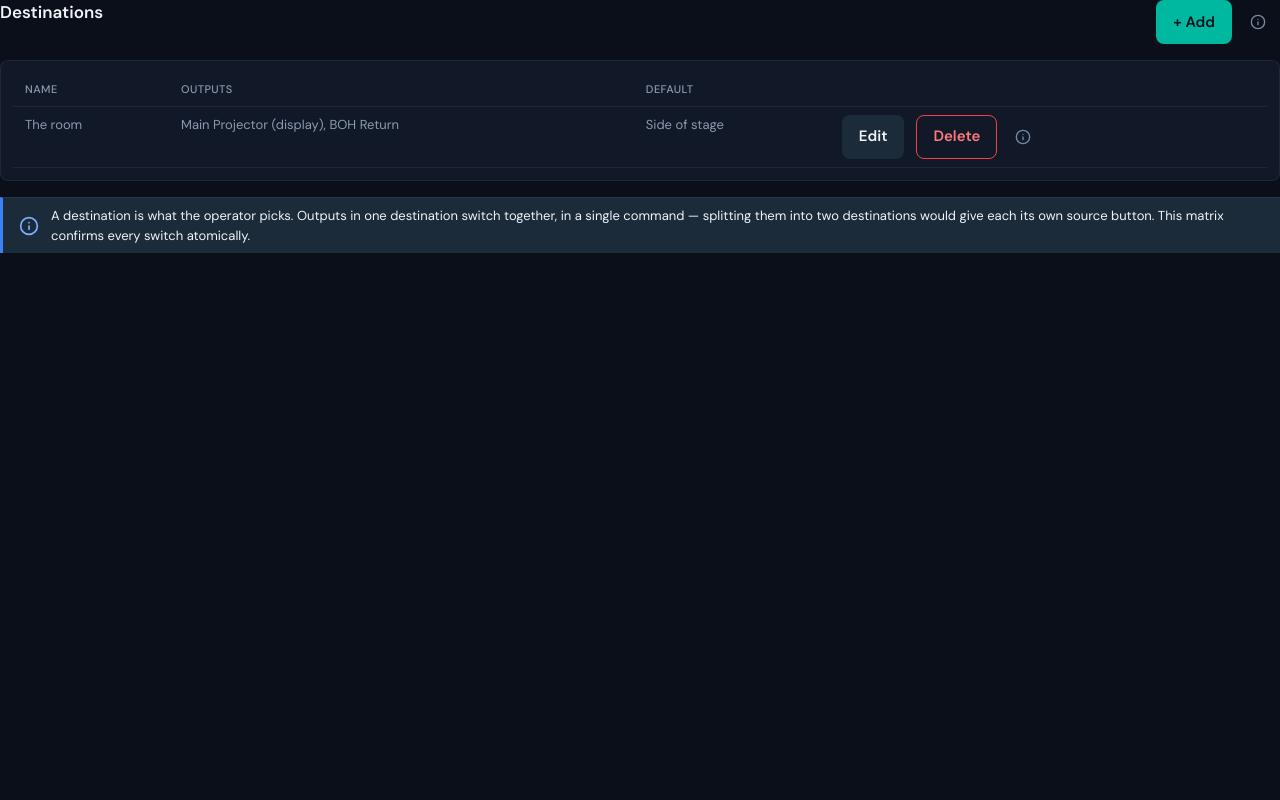
Test case: DestinationsSection › shows the scene reference on a delete blocked because it is in_use
Click the button "Delete": (957, 136) [916, 114, 997, 158]
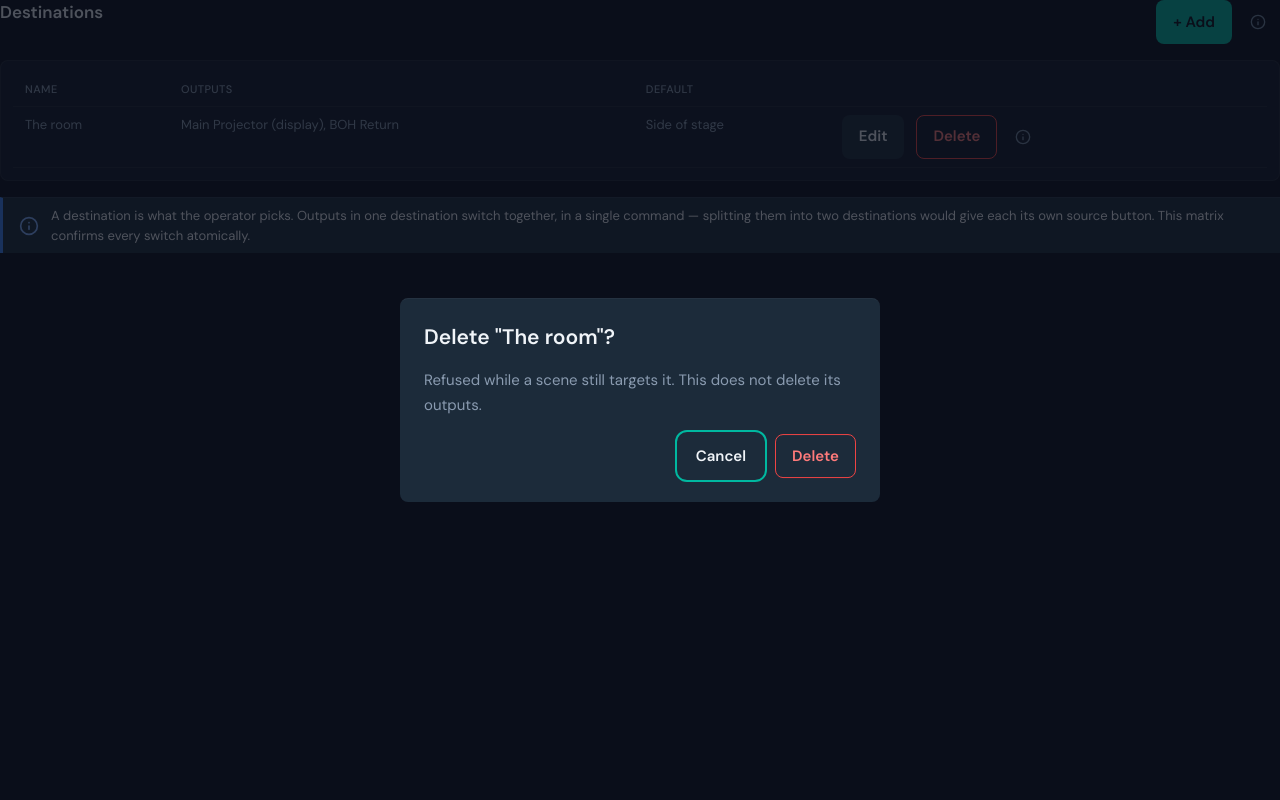
Click the button "Delete": (816, 456) [775, 434, 856, 478]
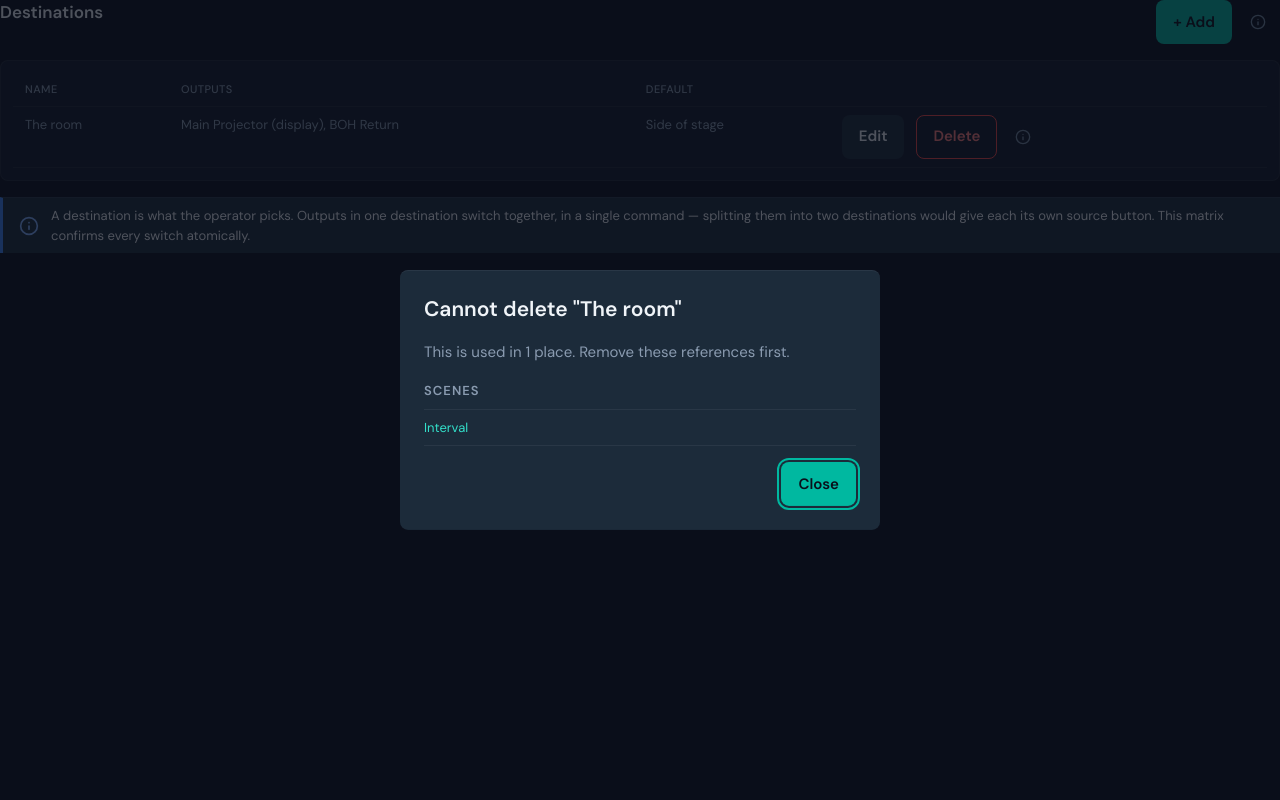
Check: the link "Interval" is shown, box [424, 419, 468, 436]
